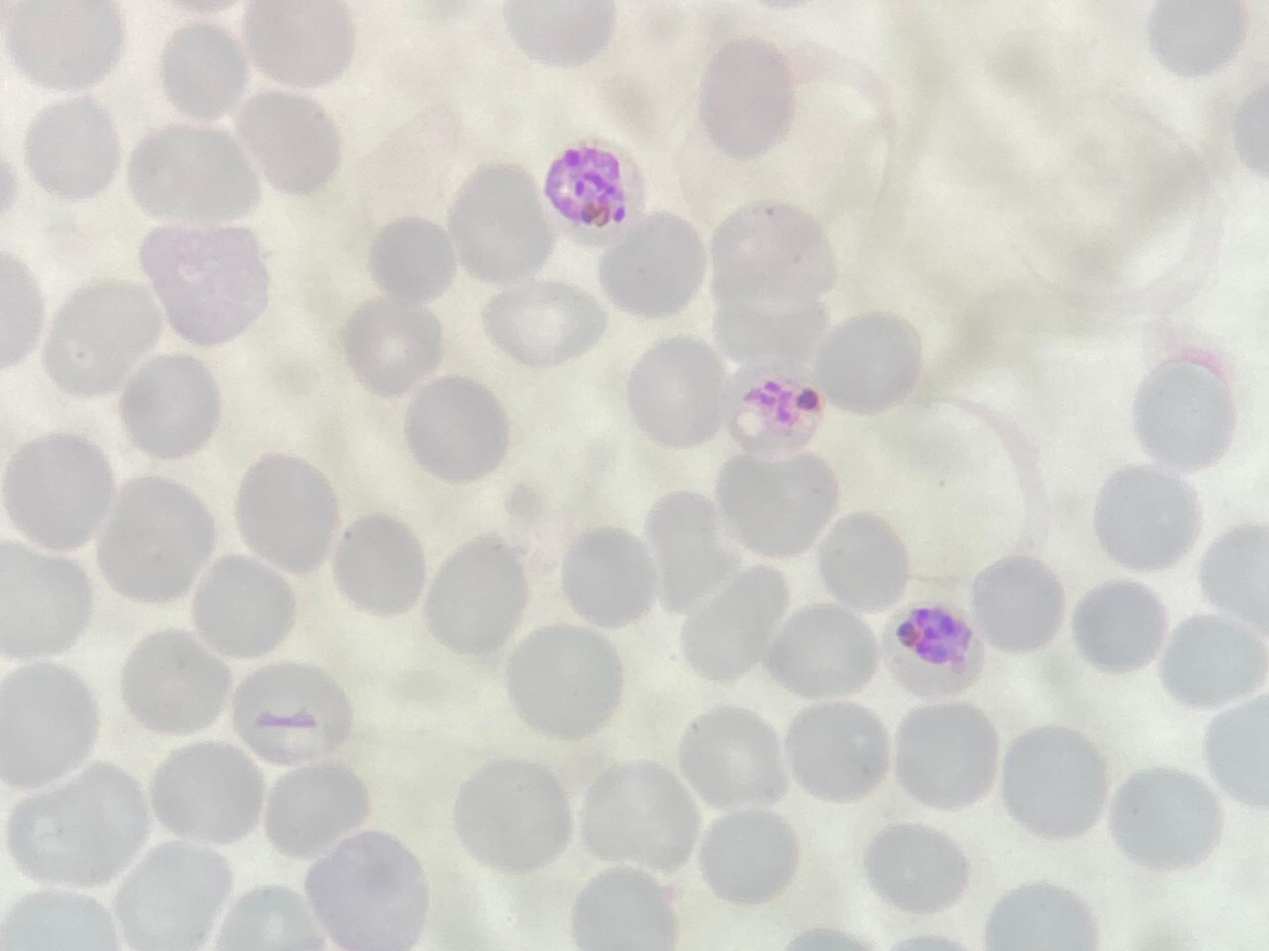Infected: (727, 357, 827, 454), (545, 137, 646, 231), (884, 603, 984, 694)
Uninfected: (8, 765, 152, 883), (144, 223, 270, 346), (97, 478, 216, 602), (719, 446, 836, 562), (311, 831, 424, 951), (127, 124, 263, 223), (507, 625, 622, 740), (686, 562, 790, 688), (236, 451, 340, 576), (454, 757, 568, 870), (587, 762, 703, 873), (112, 846, 233, 951), (1092, 463, 1207, 573), (236, 661, 359, 763), (46, 280, 155, 394), (1135, 352, 1239, 471), (10, 432, 117, 546), (451, 164, 553, 283), (894, 699, 1005, 808), (0, 536, 97, 660), (122, 623, 232, 732), (0, 663, 99, 784), (426, 536, 524, 657), (702, 35, 796, 161), (715, 200, 833, 298), (192, 551, 300, 658), (240, 85, 347, 192), (0, 0, 125, 91), (605, 212, 709, 321), (155, 739, 266, 840), (626, 334, 726, 446), (406, 375, 512, 480), (682, 706, 791, 808), (1114, 767, 1222, 869), (266, 759, 376, 858), (790, 699, 893, 804), (1010, 729, 1108, 838), (1160, 610, 1265, 710), (481, 283, 607, 366), (117, 354, 219, 456), (818, 309, 922, 409), (780, 598, 880, 699), (869, 820, 969, 919), (648, 488, 733, 604), (345, 296, 444, 395), (21, 99, 118, 200), (702, 801, 799, 902), (558, 527, 654, 629), (245, 0, 356, 87), (970, 554, 1067, 653), (329, 514, 422, 617), (1069, 577, 1168, 670), (815, 514, 911, 604), (164, 22, 248, 120), (572, 869, 672, 951), (372, 215, 461, 301)
